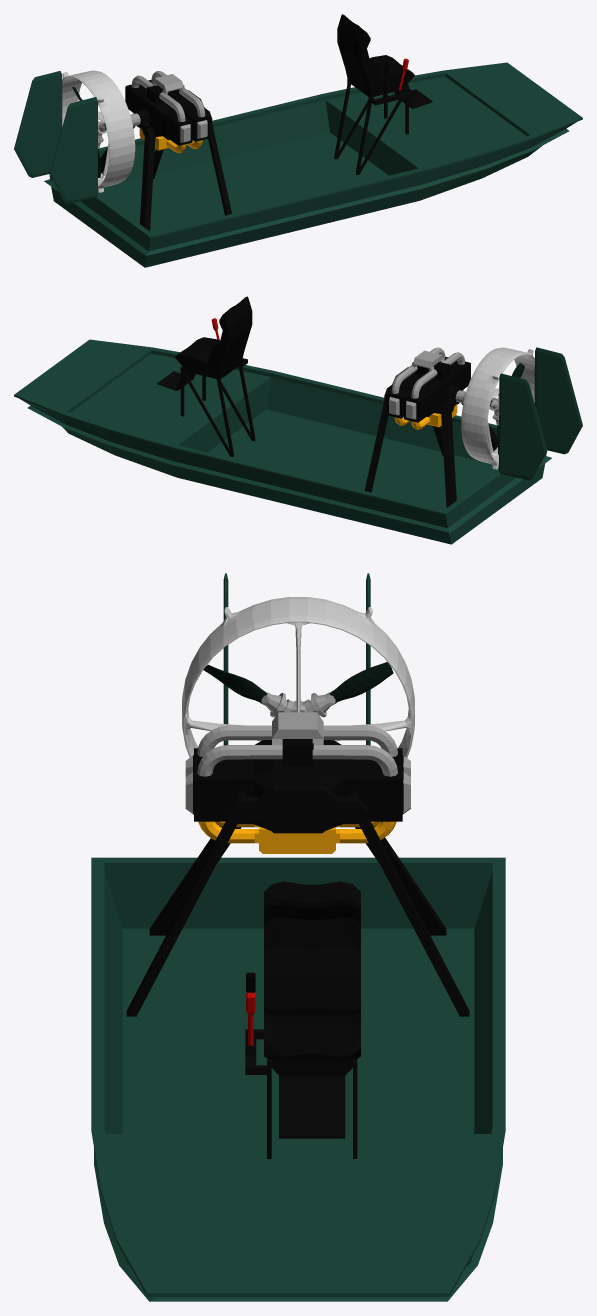
File: airboat.obj
3 views of the same model, one above another, from view 1: azimuth 30°, elevation 25°; view 2: azimuth 150°, elevation 25°; view 3: azimuth 270°, elevation 25° (orthographic). The views are drawn at different scales.
Parts seen in each view (by area): view 1: boat, rudder, shroud, seat, emounts, stand, engine, intakes, cylinders, exhaust, heads; view 2: boat, rudder, shroud, seat, emounts, stand, engine, intakes, cylinders, exhaust, heads; view 3: boat, seat, emounts, shroud, stand, intakes, engine, cylinders, exhaust, prop, rudder, hub.
Boxes of the visible parts, x1,y1,x2,y2 form: boat: (44, 62, 582, 267); rudder: (14, 71, 97, 203); shroud: (62, 70, 135, 192); seat: (337, 14, 414, 95); emounts: (100, 90, 231, 231); stand: (334, 78, 432, 174); engine: (134, 85, 196, 139); intakes: (131, 71, 205, 121); cylinders: (125, 79, 209, 145); exhaust: (133, 113, 202, 152); heads: (180, 120, 207, 142); boat: (14, 339, 551, 544); rudder: (499, 347, 582, 480); shroud: (461, 347, 534, 469); seat: (175, 296, 252, 377); emounts: (364, 367, 498, 507); stand: (157, 358, 255, 456); engine: (399, 362, 462, 416); intakes: (391, 347, 464, 398); cylinders: (387, 356, 470, 422); exhaust: (394, 389, 463, 429); heads: (389, 397, 416, 419); boat: (91, 857, 505, 1301); seat: (264, 881, 360, 1062); emounts: (126, 784, 469, 1016); shroud: (182, 597, 414, 757); stand: (245, 1029, 357, 1158); intakes: (197, 712, 397, 776); engine: (230, 739, 366, 830); cylinders: (193, 748, 403, 821); exhaust: (198, 821, 396, 853); prop: (203, 662, 393, 703); rudder: (223, 573, 370, 745); hub: (261, 692, 335, 717).
Size of the model in its own units: 16.23 by 4.8 by 5.68.
